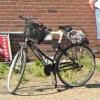bicycles: (5, 14, 96, 96)
